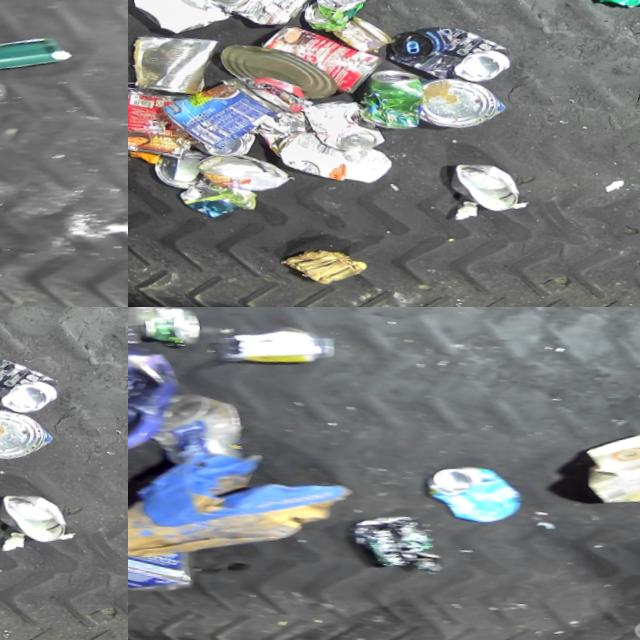can: (153, 65, 287, 164), (254, 19, 385, 110), (384, 20, 515, 102), (214, 38, 340, 113), (412, 459, 523, 542), (128, 28, 220, 104), (296, 95, 390, 164), (416, 77, 509, 146), (128, 82, 196, 165), (192, 147, 292, 203), (356, 67, 428, 139), (0, 350, 61, 433), (447, 163, 527, 226), (0, 494, 73, 556), (131, 307, 209, 358), (206, 0, 310, 37), (0, 408, 55, 476), (329, 14, 394, 64), (299, 0, 375, 42), (149, 145, 208, 196), (191, 127, 256, 165), (587, 0, 640, 29)
non_white_jug: (128, 337, 183, 487)
